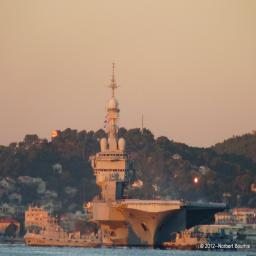Portanaves: (88, 60, 232, 250)
